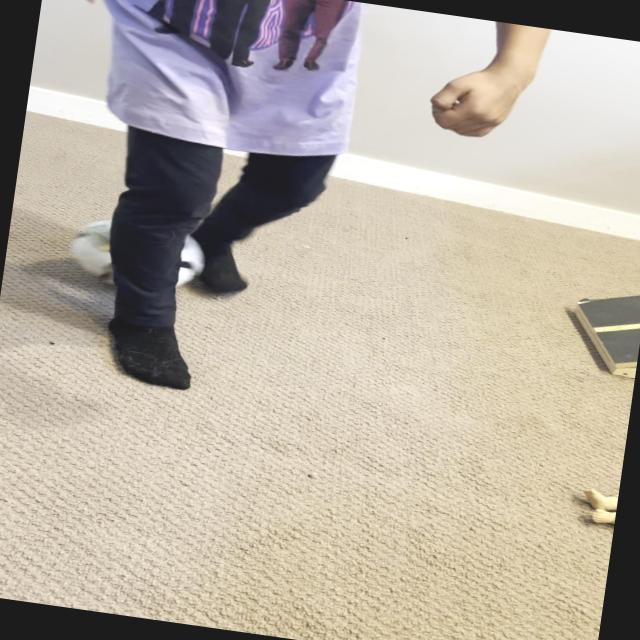Soccer Ball: (66, 207, 208, 300)
